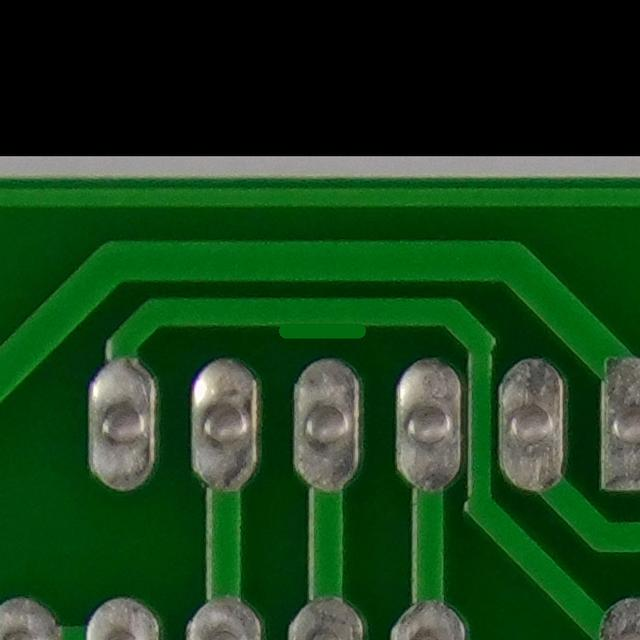spur: (267, 285, 373, 354)
